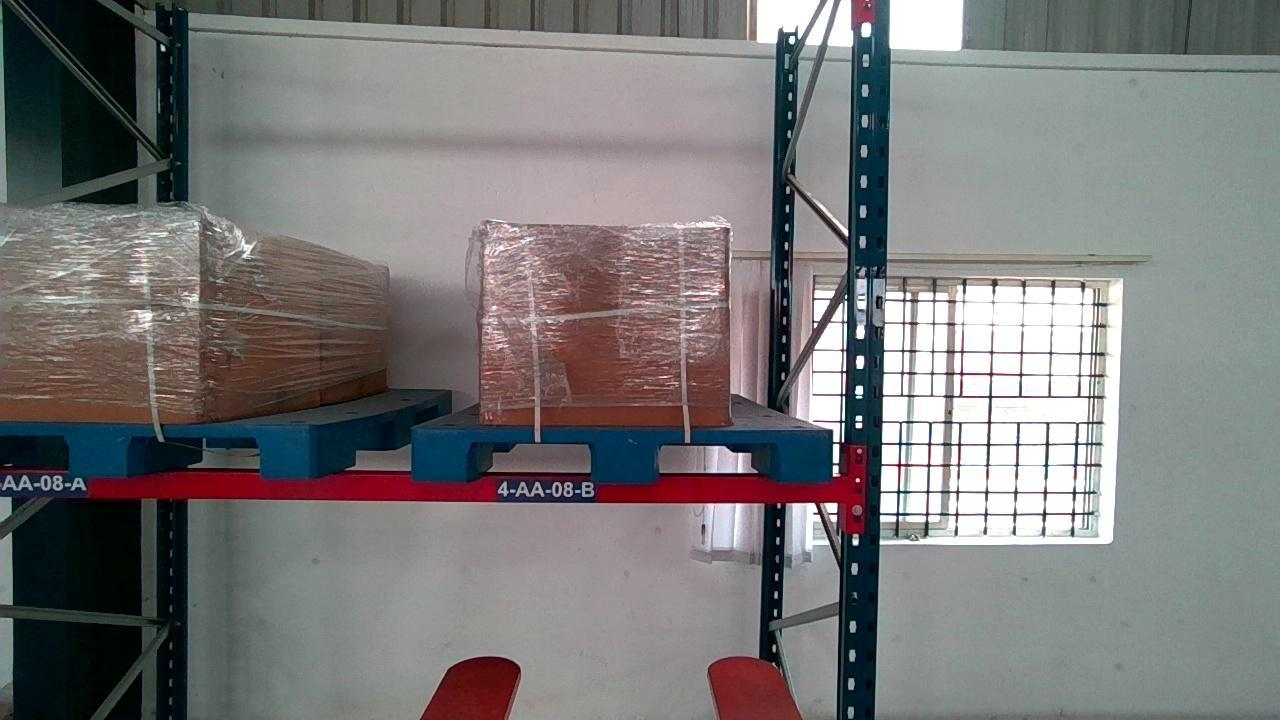h_rack: (12, 464, 846, 508)
small_pallet: (413, 421, 831, 486), (2, 421, 324, 478)
